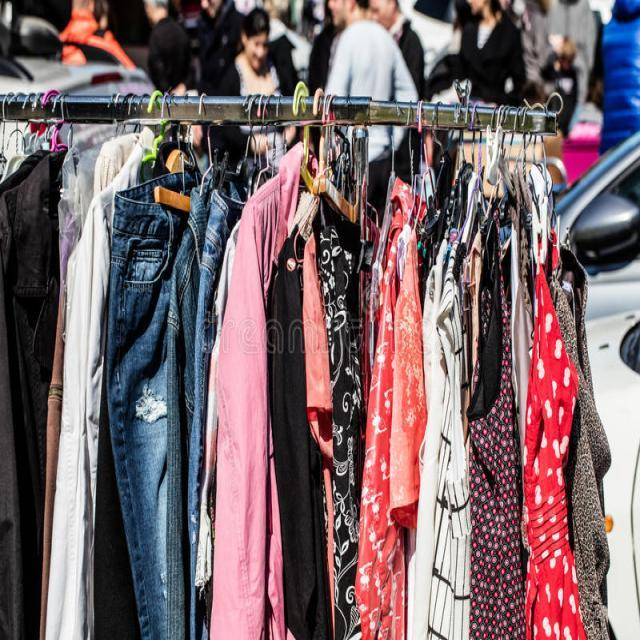clothes: (0, 129, 609, 640)
